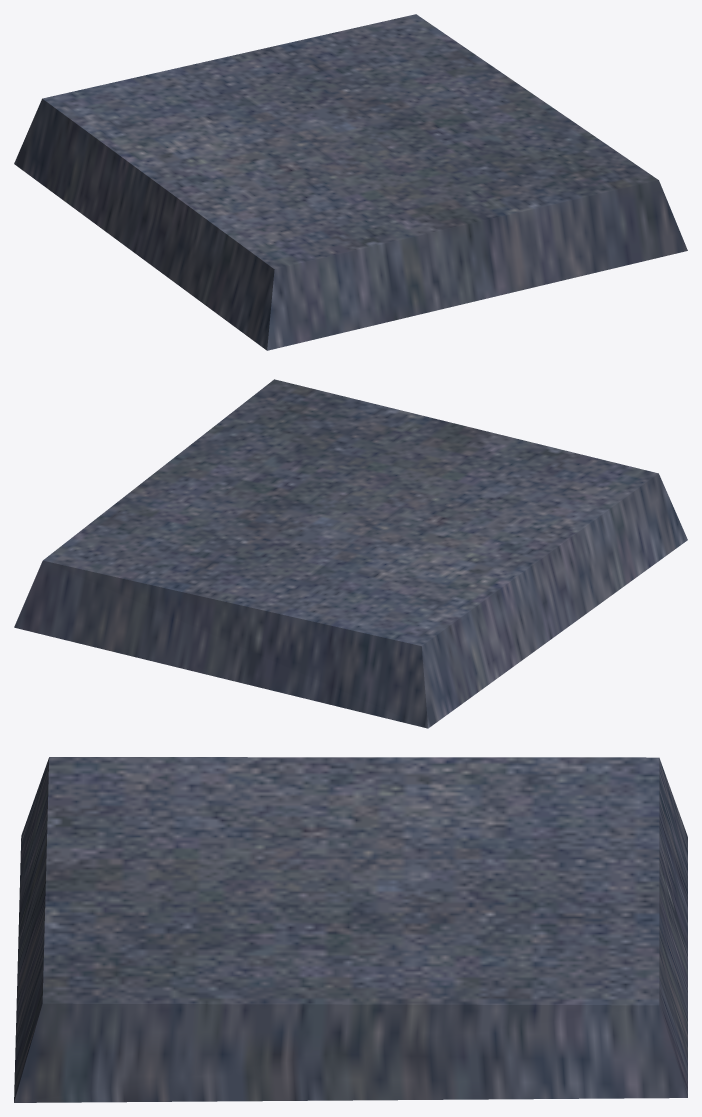
File: frn_all_throwpillow_med_s03_l2.fbx
The picture shows the model from 3 angles, top to bottom: view 1: azimuth 30°, elevation 25°; view 2: azimuth 150°, elevation 25°; view 3: azimuth 270°, elevation 25°; orthographic projection. The views are drawn at different scales.
Visible parts, largest first — view 1: mesh_node; view 2: mesh_node; view 3: mesh_node.
Part boxes in pixels (<box>): mesh_node: <box>14,14,687,350</box>; mesh_node: <box>14,379,687,728</box>; mesh_node: <box>14,757,687,1102</box>.
Bounding box in the file's own units: 1.15 × 0.1824 × 1.23.
